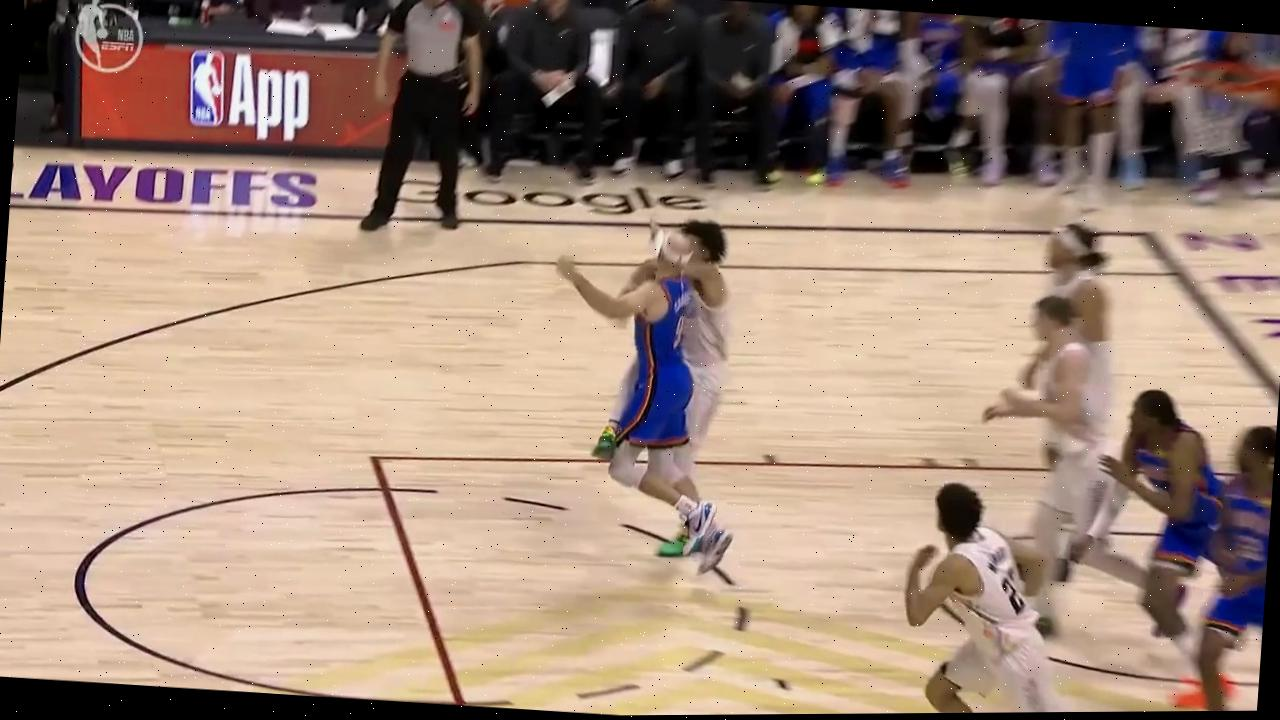foul: (524, 189, 813, 601)
